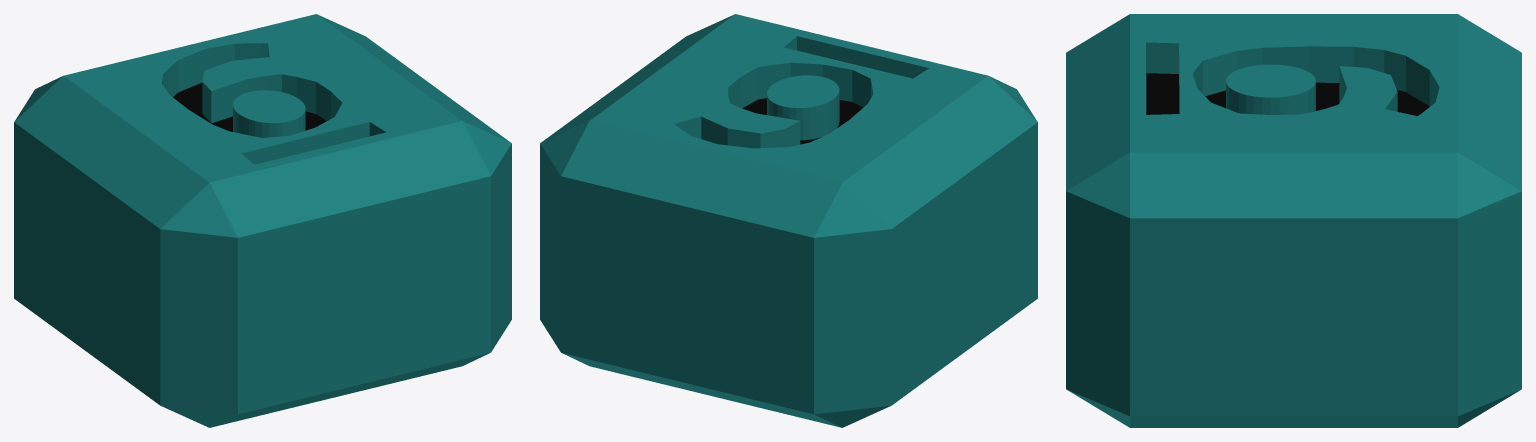
The model's file is Numero6.fbx.
3 renders of one model, left to right at view 1: azimuth 30°, elevation 25°; view 2: azimuth 150°, elevation 25°; view 3: azimuth 270°, elevation 25°, orthographic. The views are drawn at different scales.
Visible parts, largest first — view 1: Cubo6; view 2: Cubo6; view 3: Cubo6.
Boxes of the visible parts, <box> form: Cubo6: <box>14,14,511,427</box>; Cubo6: <box>540,14,1037,427</box>; Cubo6: <box>1066,14,1521,427</box>.
Size of the model in its own units: 15 by 10 by 15.
